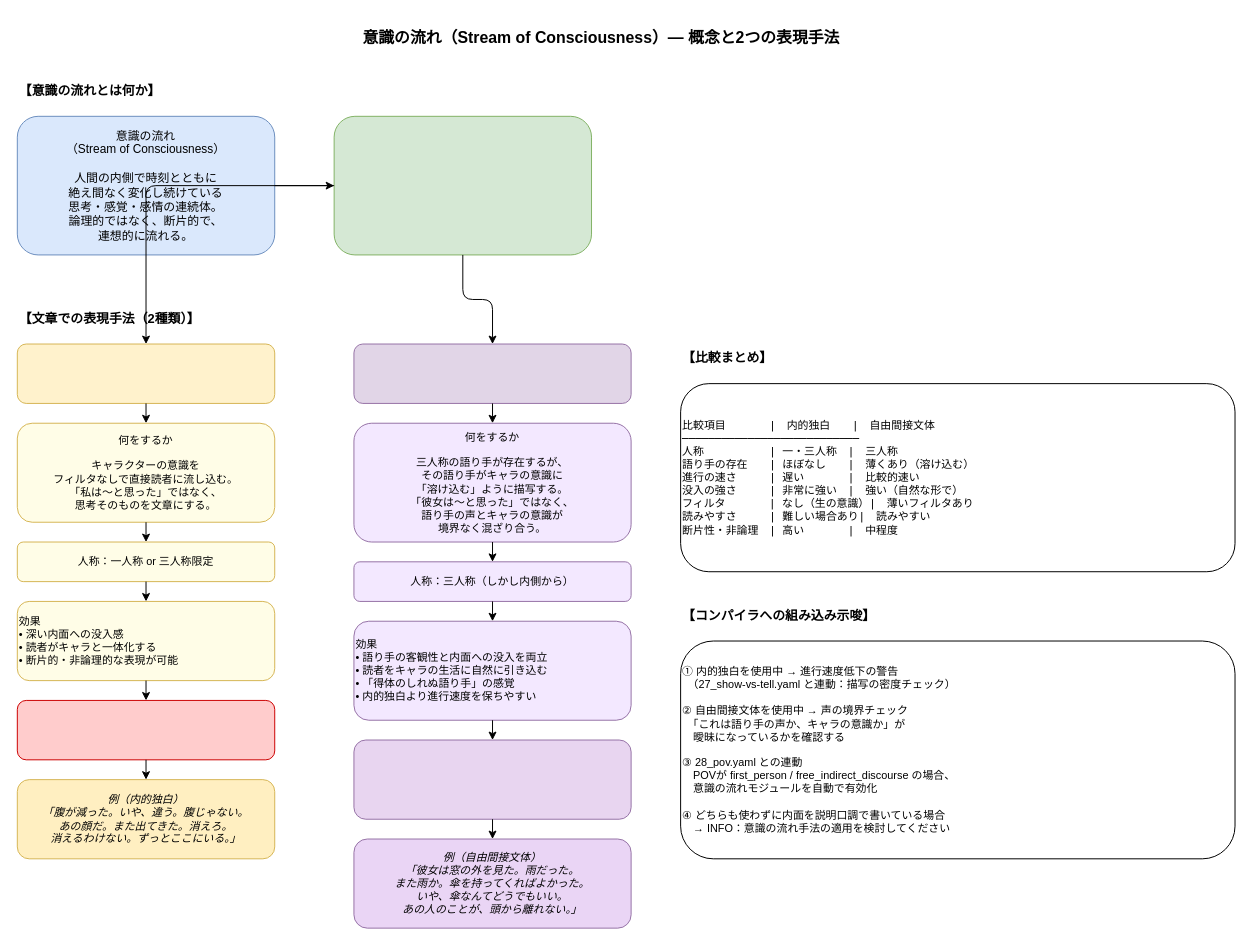
This 1252x945 diagram has some shape labels left out. Each missing label, with the centre of its shape:
"① 内的独白 （Interior Monologue）" belongs at point 145,373.
"② 自由間接文体 （Free Indirect Discourse）" belongs at point 492,373.
"⚠ コスト 描写が細かくなるため 物語の進行が遅くなる（大きなデメリット）" belongs at point 145,729.
"✅ ポイント：声の境界の曖昧さ 語り手の声とキャラの意識の どちらがしゃべっているか 読者にはっきり分からない状態が理想" belongs at point 492,779.
"小説における役割 意識の流れを描くことで、 読者をキャラクターの 主観的体験の中に「引きずり込む」。 外部の出来事より 内的体験を中心に据える手法。" belongs at point 462,185.
